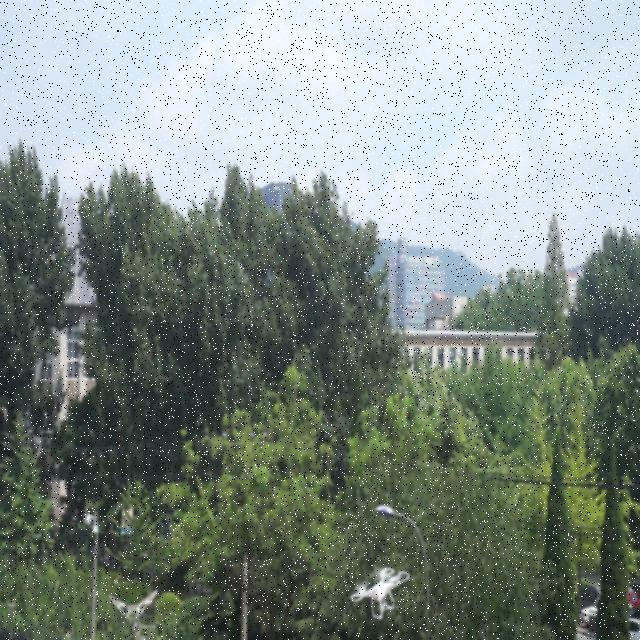UAV: (351, 568, 410, 619)
